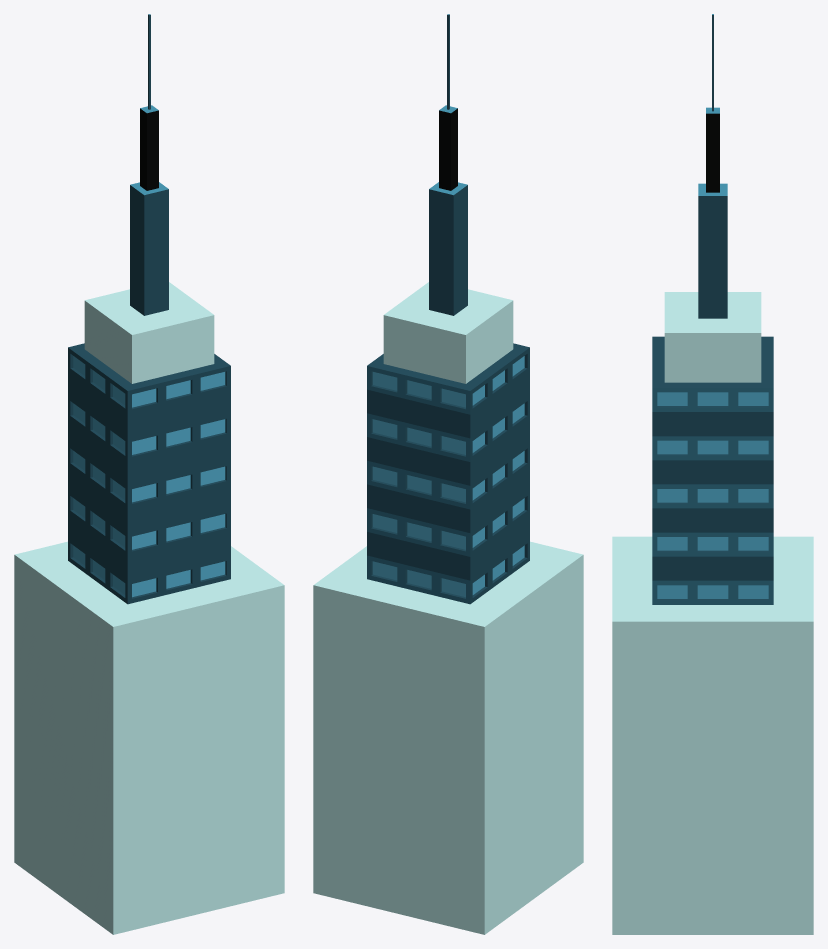
Rendered from Building1.fbx.
3 views of the same model, side by side, from view 1: azimuth 30°, elevation 25°; view 2: azimuth 150°, elevation 25°; view 3: azimuth 270°, elevation 25° (orthographic).
Visible parts, largest first — view 1: Bina1; view 2: Bina1; view 3: Bina1.
Boxes of the visible parts, box(x1,y1,x2,y2) form: Bina1: box(14, 14, 284, 934); Bina1: box(313, 14, 583, 934); Bina1: box(612, 14, 813, 934).
Bounding box in the file's own units: 4850 × 23358 × 4850.
